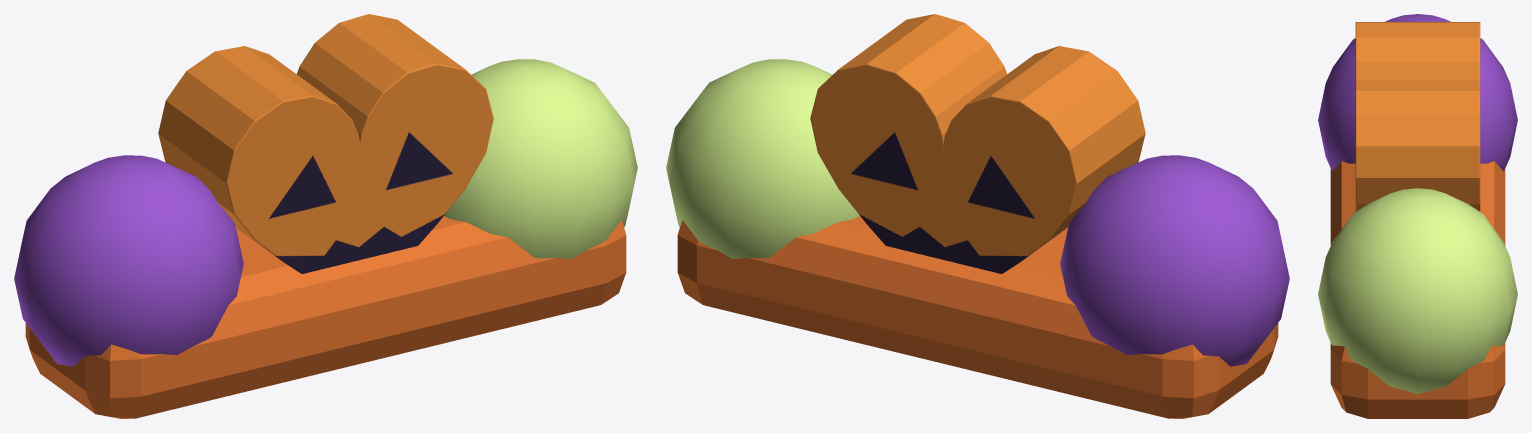
File: ACC_TH_RESCUE_Primary.fbx
The picture shows the model from 3 angles, left to right: view 1: azimuth 30°, elevation 25°; view 2: azimuth 150°, elevation 25°; view 3: azimuth 270°, elevation 25°; orthographic projection. The views are drawn at different scales.
Visible parts, largest first — view 1: ACC_TH_RESCUE_Primary; view 2: ACC_TH_RESCUE_Primary; view 3: ACC_TH_RESCUE_Primary.
Boxes of the visible parts, left/top/right/bottom form: ACC_TH_RESCUE_Primary: left=14, top=14, right=637, bottom=418; ACC_TH_RESCUE_Primary: left=666, top=14, right=1289, bottom=418; ACC_TH_RESCUE_Primary: left=1318, top=14, right=1517, bottom=418.
Size of the model in its own units: 100 by 45.53 by 32.
